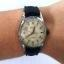watch: (18, 16, 50, 49)
